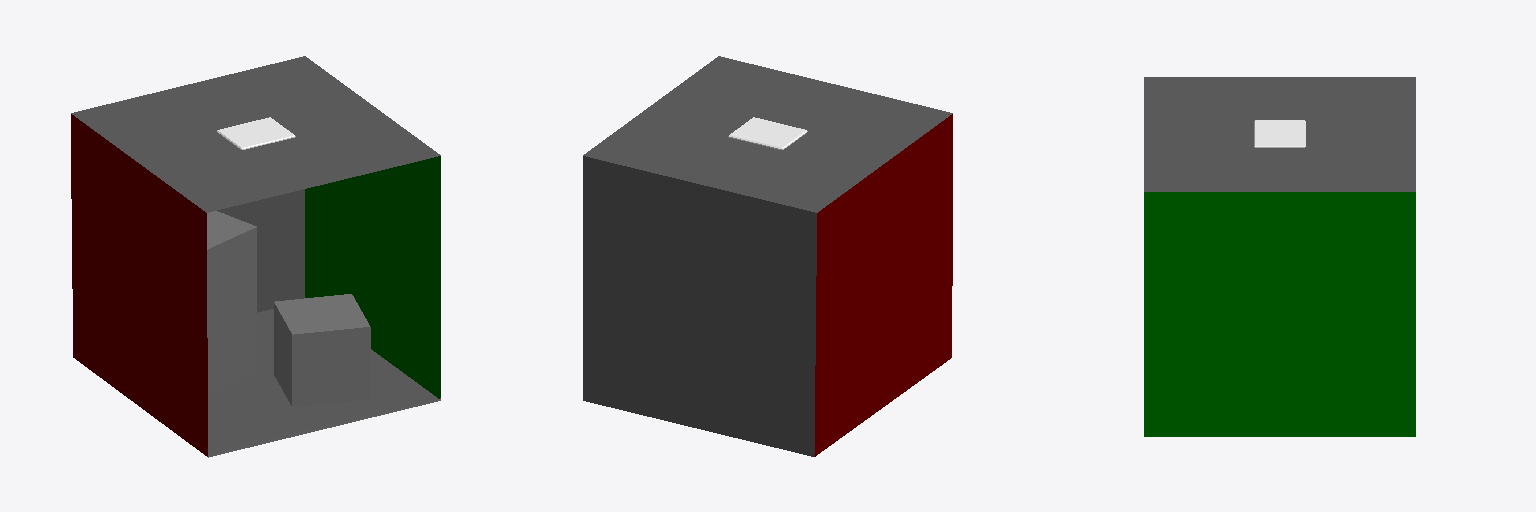
File: CornellBoxObj.obj
The picture shows the model from 3 angles: view 1: azimuth 30°, elevation 25°; view 2: azimuth 150°, elevation 25°; view 3: azimuth 270°, elevation 25°; orthographic projection.
Parts seen in each view (by area): view 1: CornellBox; view 2: CornellBox; view 3: CornellBox.
Boxes of the visible parts, <box> form: CornellBox: <box>71,56,440,457</box>; CornellBox: <box>583,56,952,456</box>; CornellBox: <box>1144,77,1415,436</box>.
Bounding box in the file's own units: 5374 × 5402 × 5405.